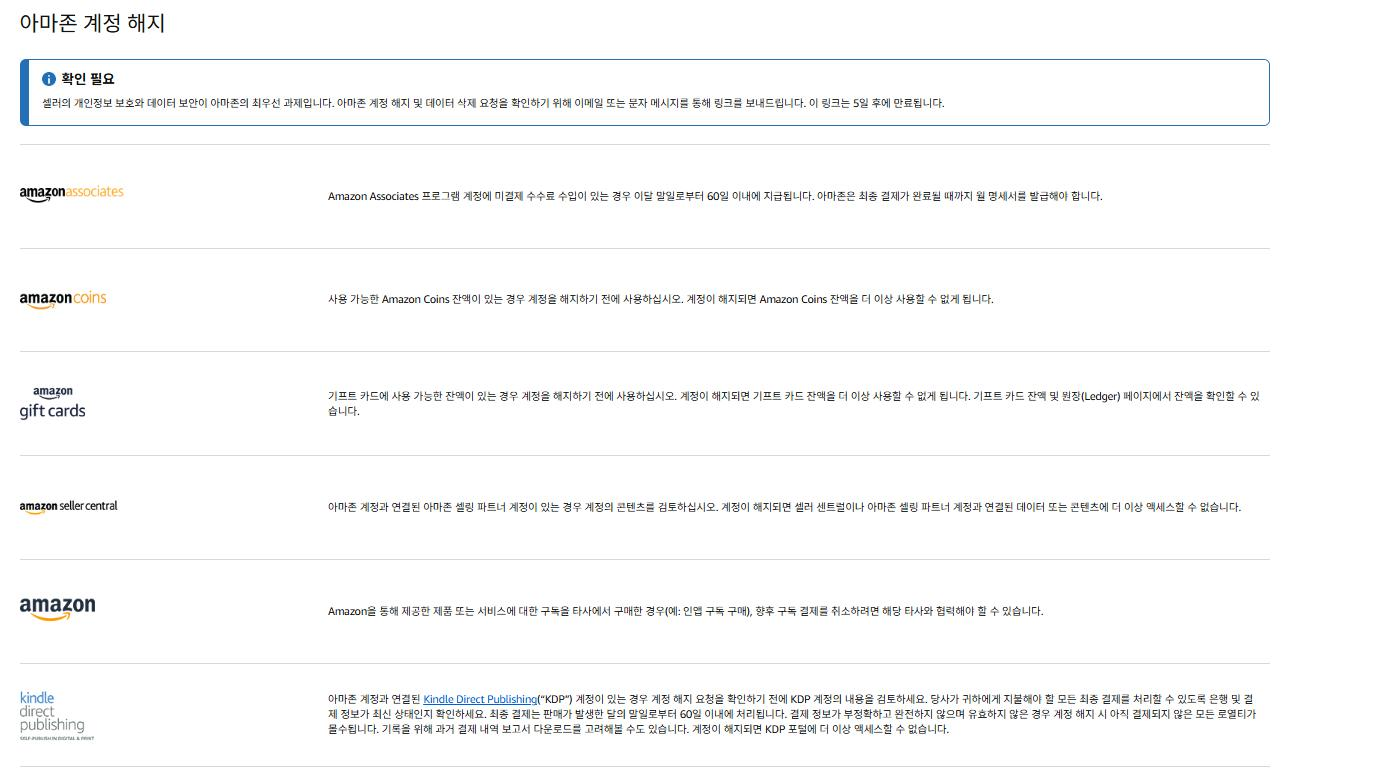button: (419, 687, 579, 714)
